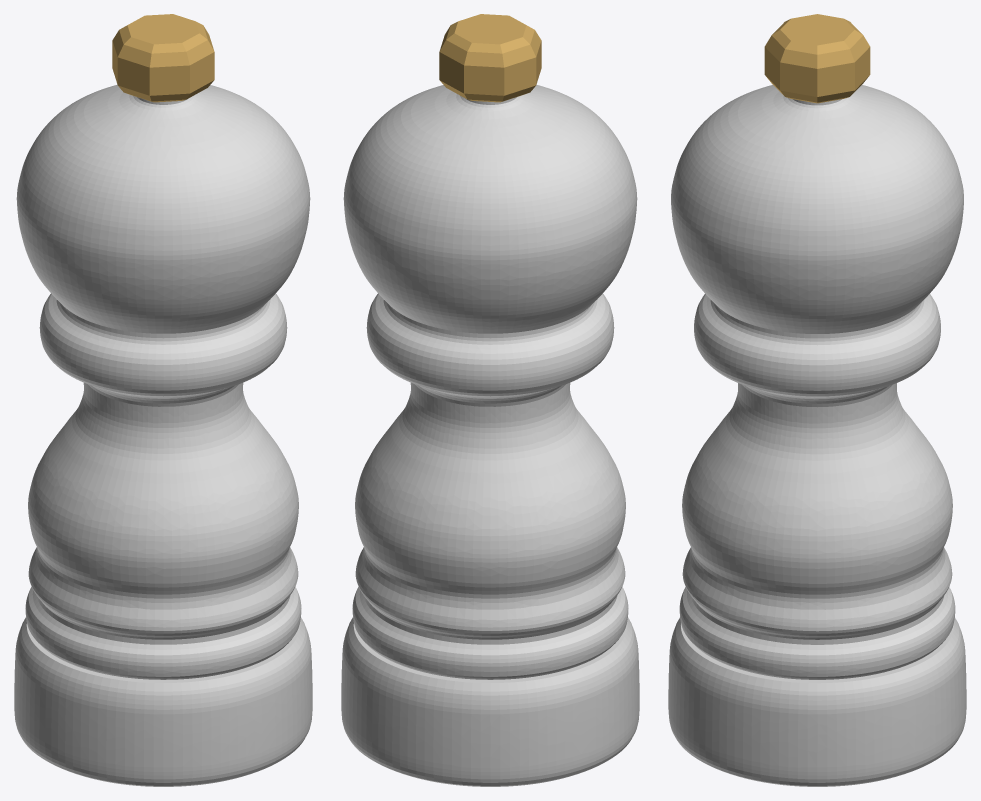
3 views of the same model, side by side, from view 1: azimuth 30°, elevation 25°; view 2: azimuth 150°, elevation 25°; view 3: azimuth 270°, elevation 25° (orthographic).
Parts seen in each view (by area): view 1: Hollow reservoir body, Removable oval head, Wooden adjustment sleeve, Faceted retaining thumb nut; view 2: Hollow reservoir body, Removable oval head, Wooden adjustment sleeve, Faceted retaining thumb nut; view 3: Hollow reservoir body, Removable oval head, Wooden adjustment sleeve, Faceted retaining thumb nut.
Part boxes in pixels (box(x1,y1,x2,y2)): Hollow reservoir body: box(25, 293, 301, 679); Removable oval head: box(16, 84, 310, 333); Wooden adjustment sleeve: box(14, 617, 312, 786); Faceted retaining thumb nut: box(112, 14, 214, 102); Hollow reservoir body: box(352, 293, 628, 679); Removable oval head: box(343, 84, 637, 333); Wooden adjustment sleeve: box(341, 617, 639, 786); Faceted retaining thumb nut: box(439, 14, 541, 102); Hollow reservoir body: box(679, 294, 955, 679); Removable oval head: box(671, 85, 963, 333); Wooden adjustment sleeve: box(668, 617, 966, 786); Faceted retaining thumb nut: box(764, 14, 870, 103).
Bounding box in the file's own units: 0.048 × 0.124 × 0.048.
